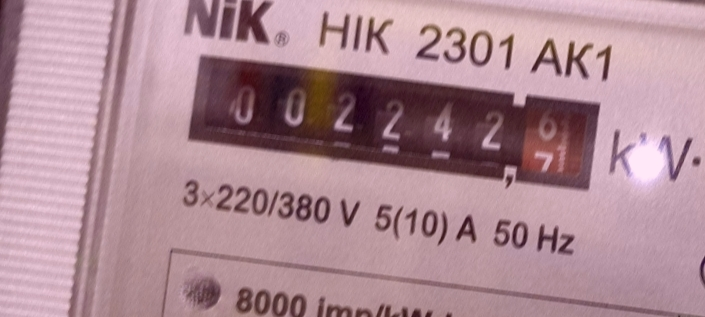0: (277, 82, 308, 128), (328, 88, 358, 134), (228, 80, 257, 127)
2: (475, 106, 506, 153), (376, 95, 406, 142)
4: (426, 97, 456, 144)
6: (531, 106, 560, 142)
7: (527, 148, 553, 174)
screen: (173, 31, 617, 216)
